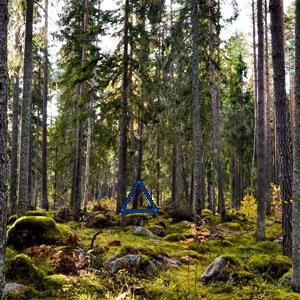triangle: (117, 178, 160, 215)
